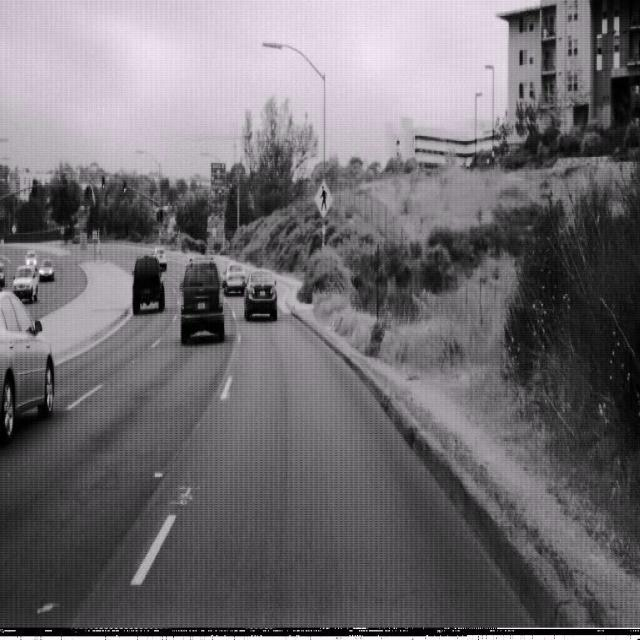pedestrianCrossing: (312, 178, 333, 219)
